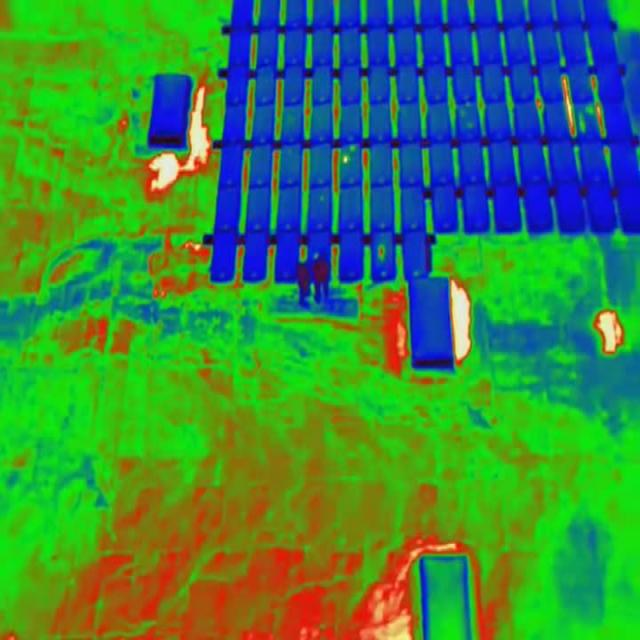Orange-Spots: (579, 113, 586, 133), (378, 244, 385, 260), (586, 106, 594, 114), (343, 156, 349, 163), (350, 145, 356, 152), (314, 253, 318, 259)
